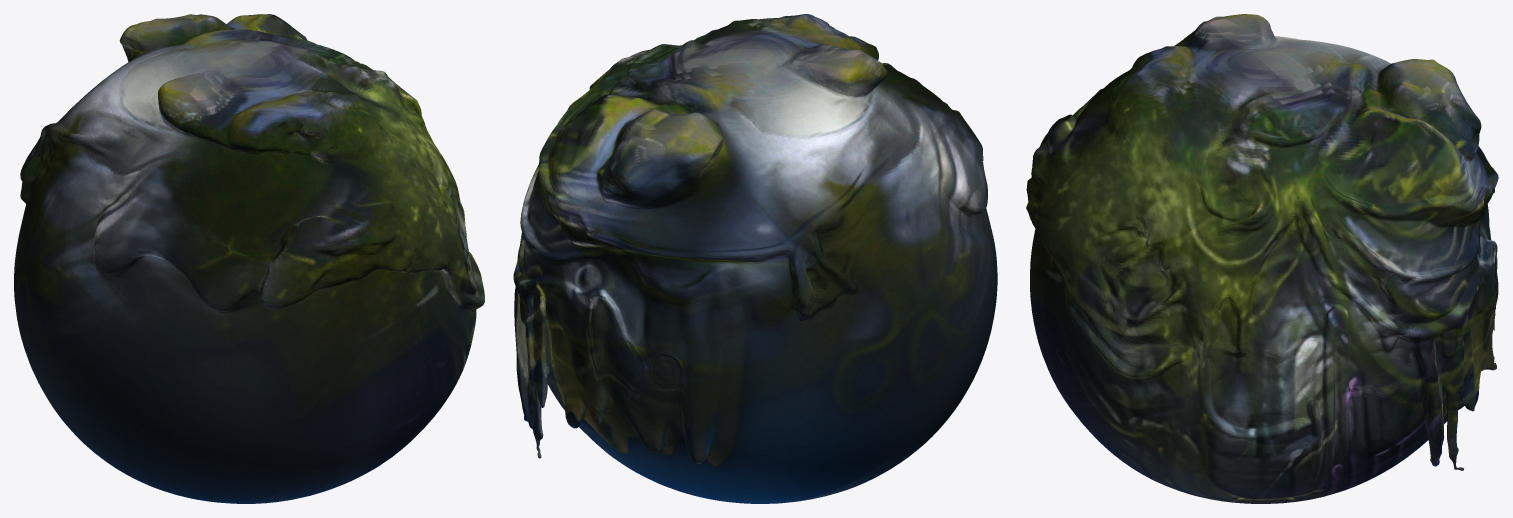
The model's file is ancient_rift_sphere.glb.
The picture shows the model from 3 angles, left to right: view 1: azimuth 30°, elevation 25°; view 2: azimuth 150°, elevation 25°; view 3: azimuth 270°, elevation 25°; orthographic projection. The views are drawn at different scales.
Bounding box in the file's own units: 1.94 × 1.91 × 1.95.
Materials: 1 (1 with a texture image).
